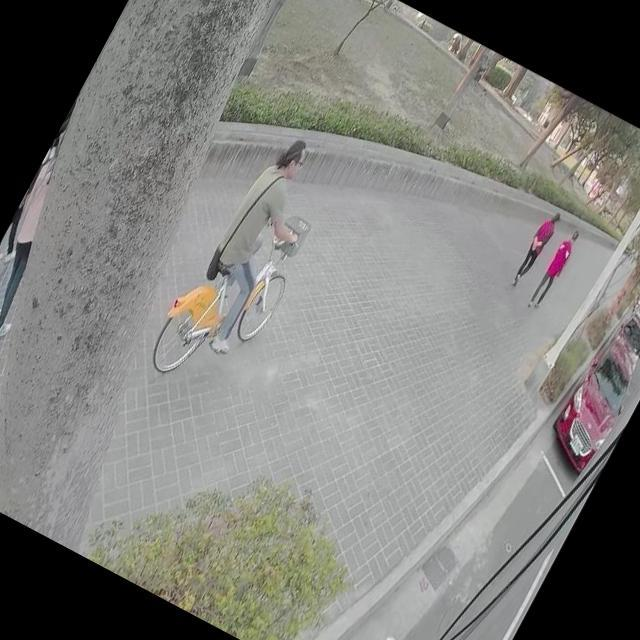person: (172, 126, 334, 355), (0, 147, 92, 342), (509, 206, 563, 290), (530, 226, 580, 306)
